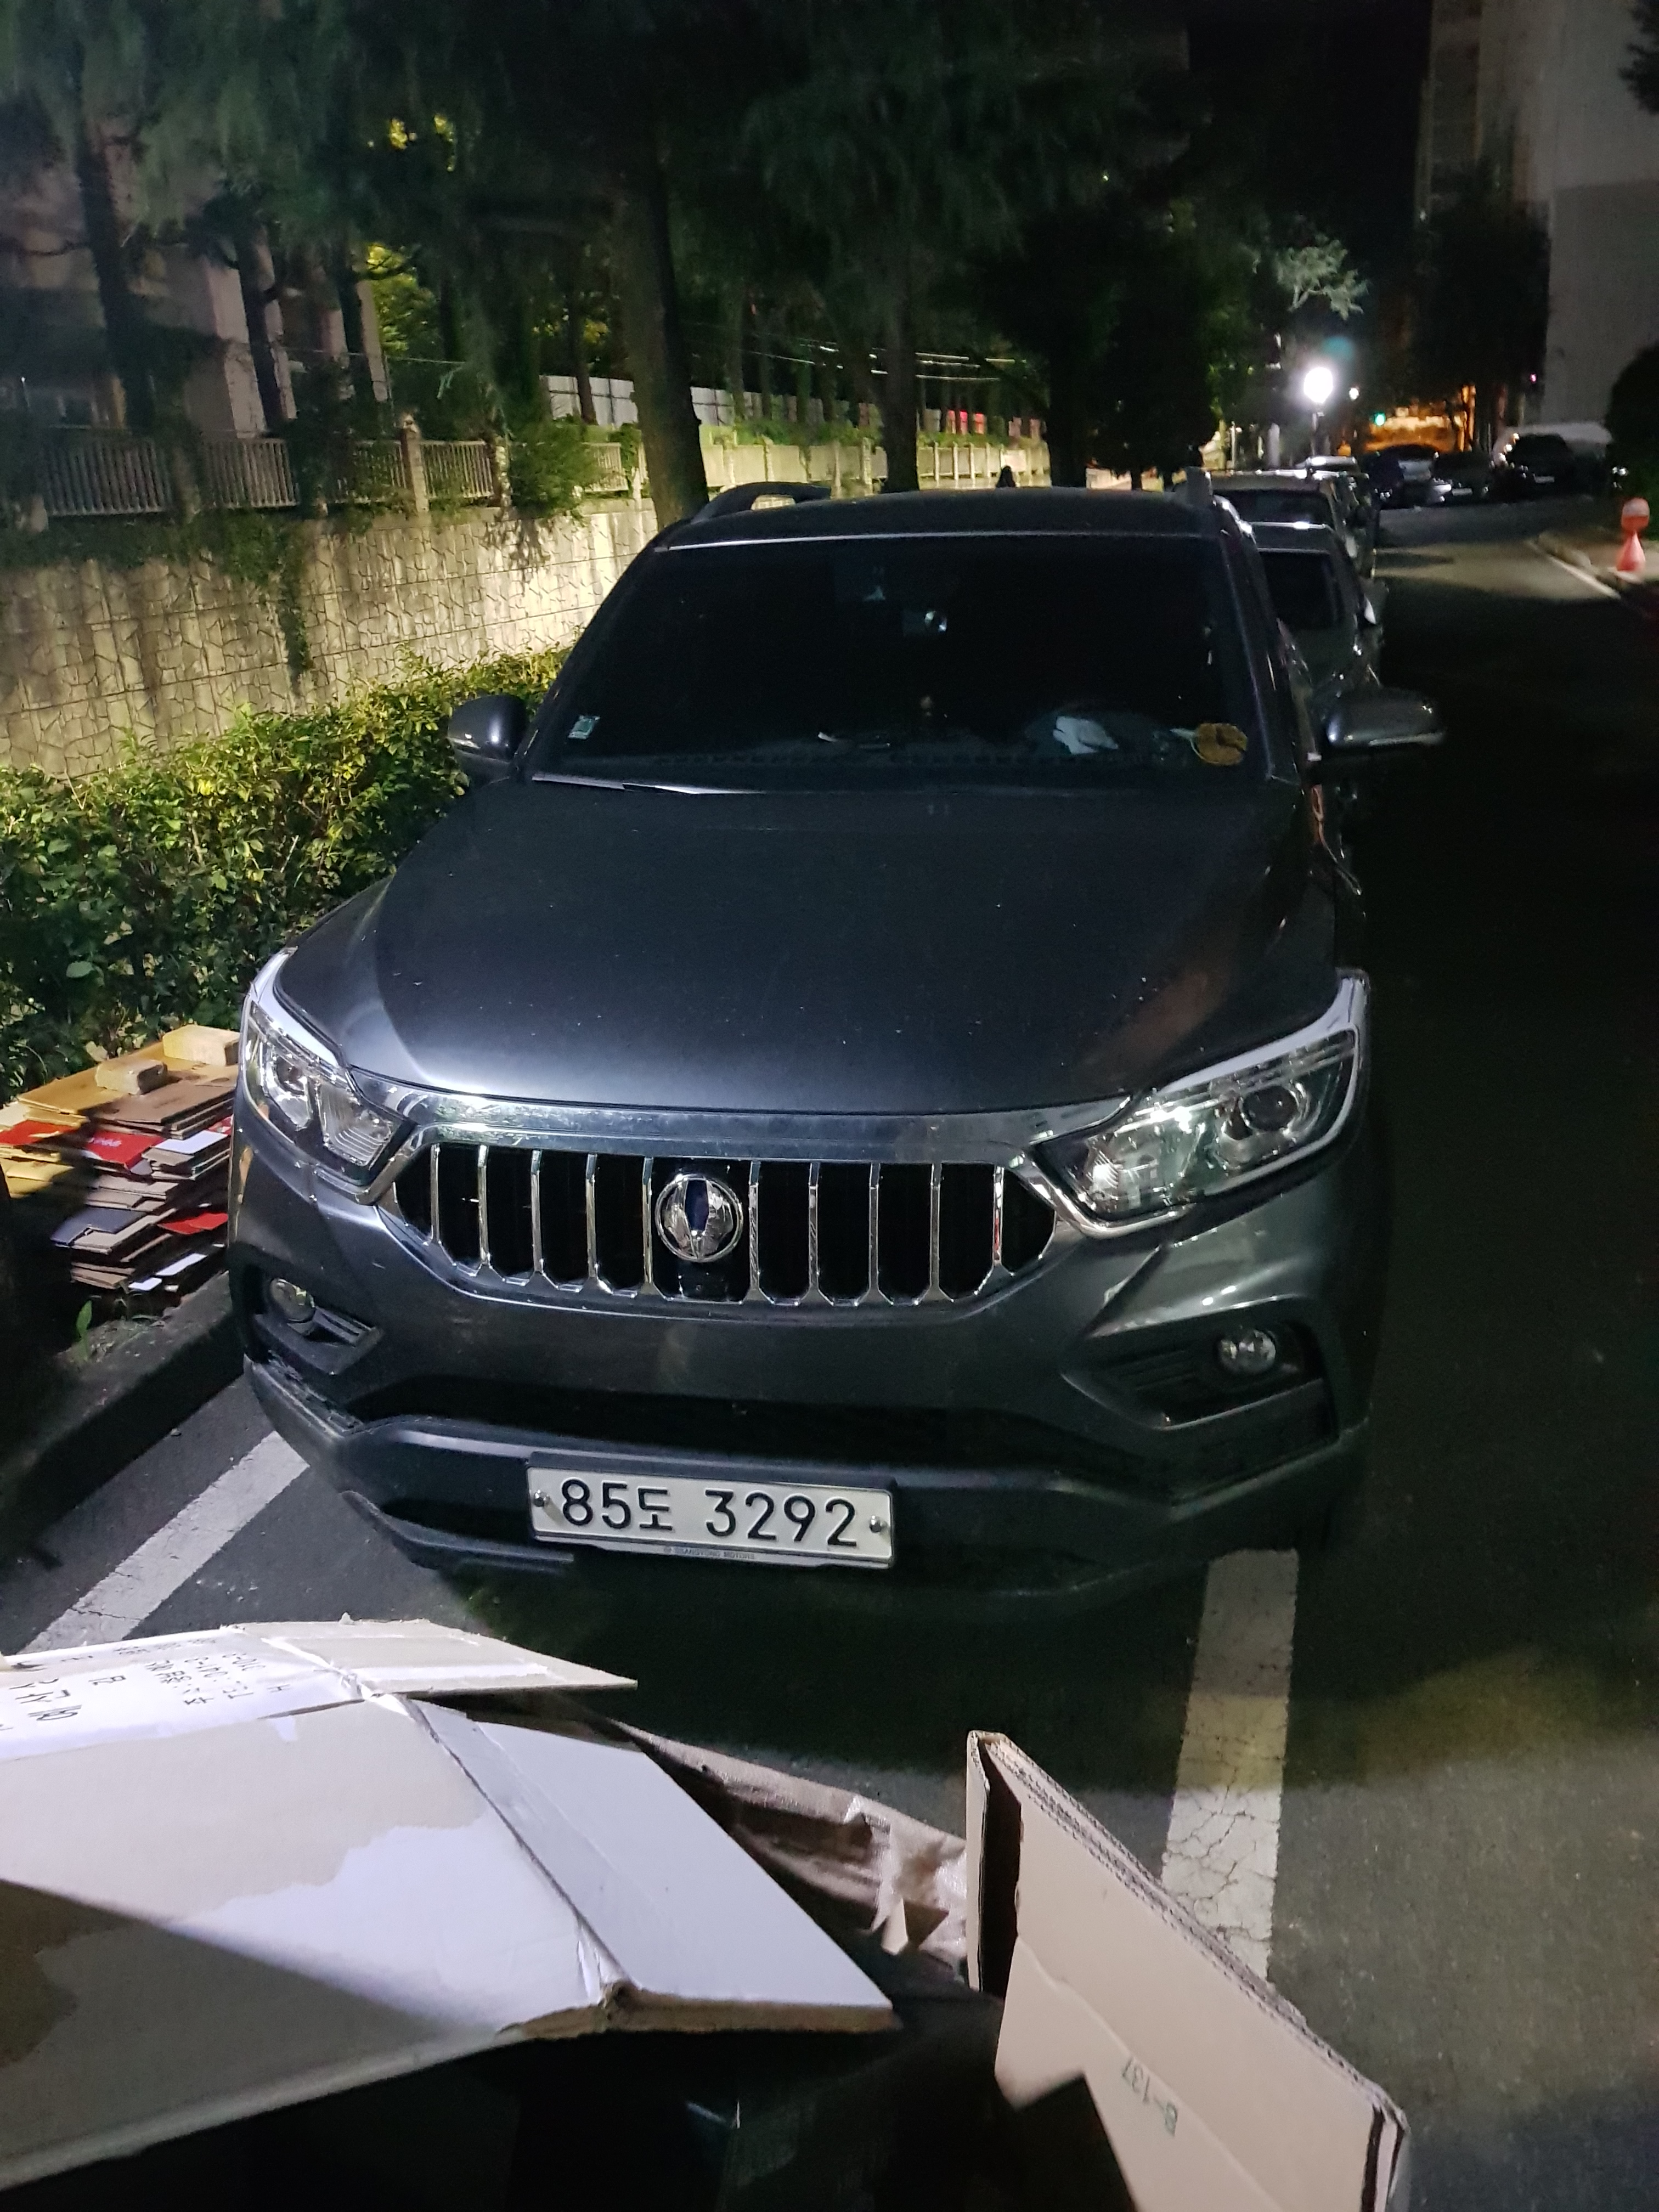apart_parking: (566, 712, 601, 742)
disabled_parking: (1185, 712, 1253, 770)
navigator: (917, 604, 955, 639)
